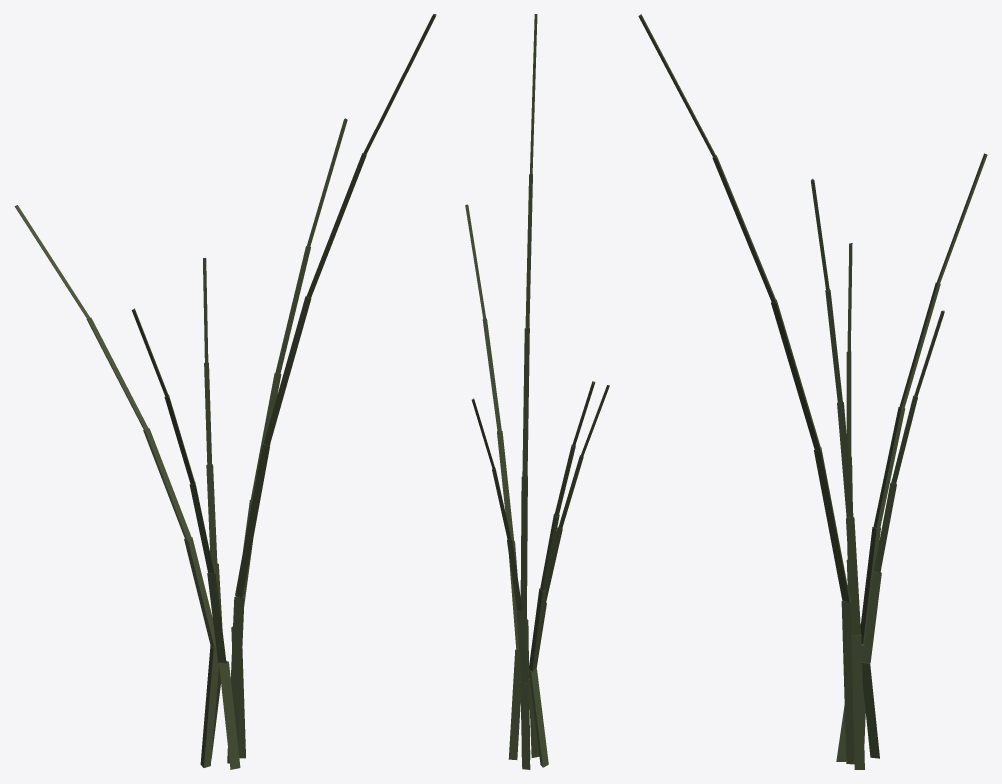
File: lb_weed_B.fbx
3 renders of one model, left to right at view 1: azimuth 30°, elevation 25°; view 2: azimuth 150°, elevation 25°; view 3: azimuth 270°, elevation 25°, orthographic. The views are drawn at different scales.
Visible parts, largest first — view 1: lb_weed_B_export; view 2: lb_weed_B_export; view 3: lb_weed_B_export.
Boxes of the visible parts, <box> form: lb_weed_B_export: <box>14,14,436,769</box>; lb_weed_B_export: <box>465,14,609,769</box>; lb_weed_B_export: <box>638,14,987,769</box>.
Bounding box in the file's own units: 65.06 × 202 × 80.53.
